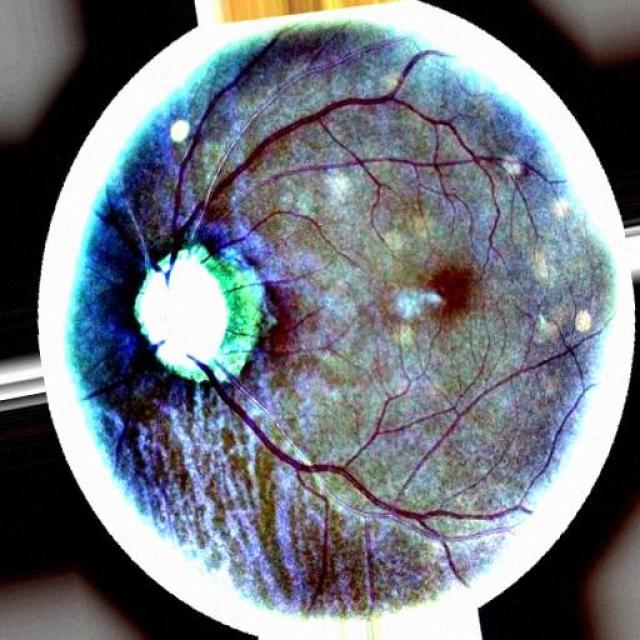Macula: (429, 270, 468, 314)
Nerves: (162, 36, 561, 280), (196, 340, 588, 579), (230, 209, 356, 264)
Optic Disk: (134, 244, 261, 381)
